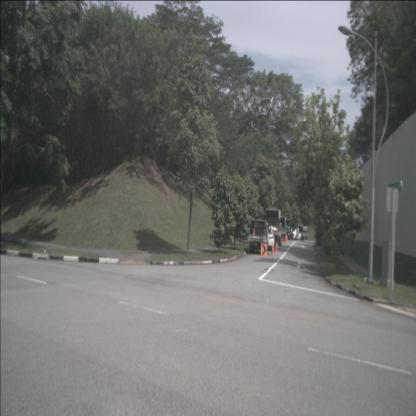human-pedestrian-adult: (290, 226, 293, 240), (297, 227, 299, 240)
movable_object-trafficcone: (252, 227, 256, 240), (271, 243, 275, 255), (275, 241, 278, 253), (276, 240, 279, 252)
vehicle-car: (258, 229, 275, 251), (283, 226, 294, 239), (290, 229, 302, 240)
vehicle-truck: (262, 208, 282, 247), (248, 220, 269, 254), (273, 217, 286, 242), (297, 226, 309, 240)
